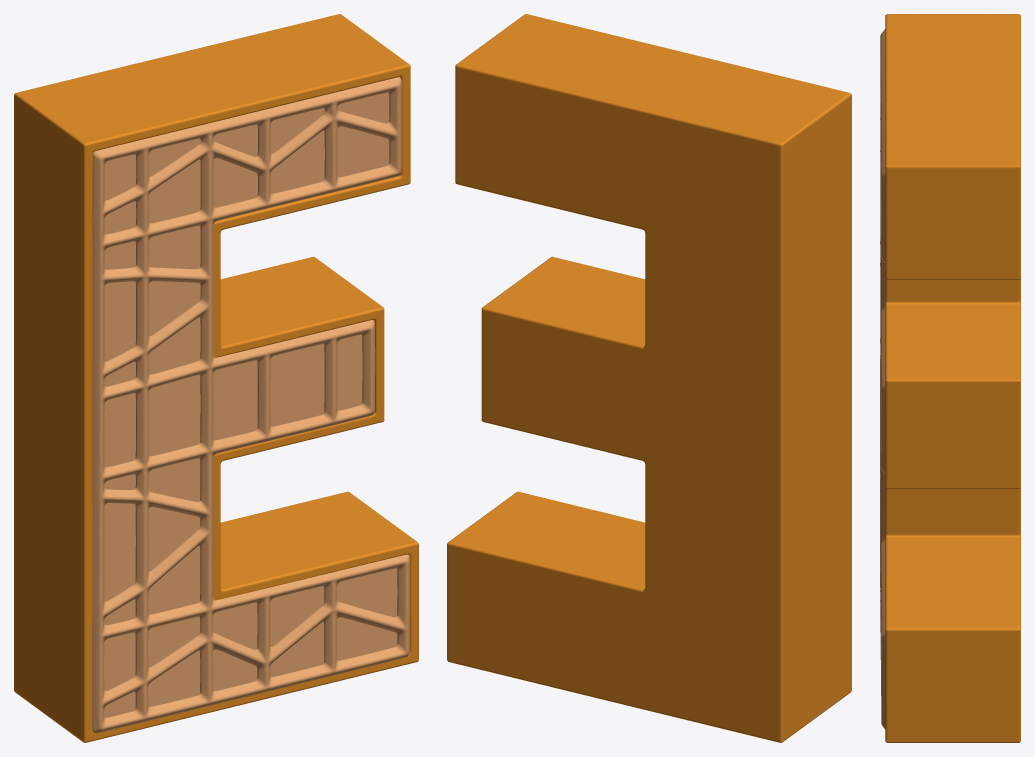
3 views of the same model, side by side, from view 1: azimuth 30°, elevation 25°; view 2: azimuth 150°, elevation 25°; view 3: azimuth 270°, elevation 25° (orthographic). The views are drawn at different scales.
Parts seen in each view (by area): view 1: Text.006, Plane.027, Plane.004; view 2: Text.006; view 3: Text.006, Plane.027.
Part boxes in pixels (<box>): Text.006: <box>14,14,418,742</box>; Plane.027: <box>92,77,409,733</box>; Plane.004: <box>104,92,397,717</box>; Text.006: <box>447,14,851,742</box>; Text.006: <box>885,14,1020,742</box>; Plane.027: <box>880,29,885,729</box>.
Bounding box in the file's own units: 2.04 × 3.47 × 0.7734.
